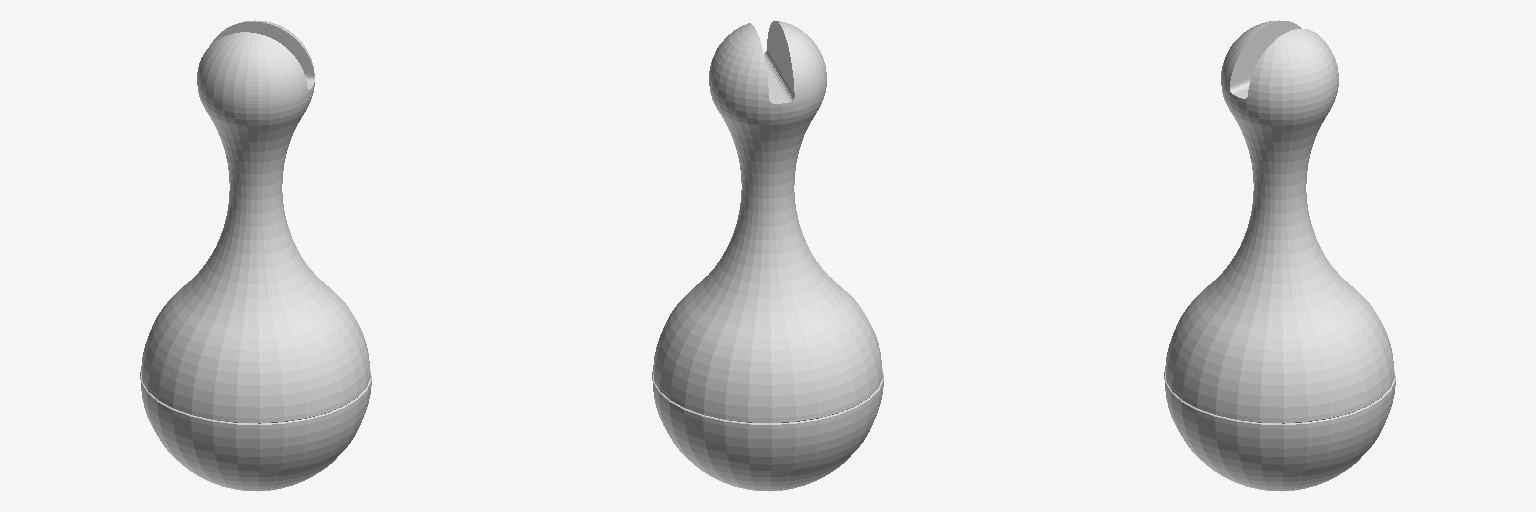
URDF robot description (bishop_w):
<?xml version="1.0"?>
<robot name="bishop_w">
  <link name="base_link">
    <visual>
      <origin xyz="0 0 0" rpy="0 0 0"/>
      <geometry>
        <mesh filename="./meshes/Bishops.stl" scale="0.003 0.003 0.003"/>
      </geometry>
      <material name="pawn_material">
        <color rgba="0.9 0.9 0.9 1.0"/>
      </material>
    </visual>
    <collision>
      <origin xyz="0 0 0.025" rpy="0 0 0"/>
      <geometry>
        <cylinder radius="0.012" length="0.05"/>
      </geometry>
    </collision>
    <inertial>
      <origin xyz="0 0 0.025" rpy="0 0 0"/>
      <mass value="0.04"/> <!-- 40 grams, or adjust -->
      <inertia
        ixx="0.00005" ixy="0.0" ixz="0.0"
        iyy="0.00005" iyz="0.0"
        izz="0.00001"/>
    </inertial>
  </link>
</robot>

--- Render facts (derived) ---
Views: 3 orthographic renders of the robot side by side, from view 1: azimuth 30°, elevation 25°; view 2: azimuth 150°, elevation 25°; view 3: azimuth 270°, elevation 25°.
Model bishop_w with 1 links and 0 joints (none), rooted at base_link, posed all joints at 0.
Links seen in each view (by area): view 1: base_link; view 2: base_link; view 3: base_link.
Boxes of the visible links, x1,y1,x2,y2 form: base_link: (140, 20, 371, 491); base_link: (652, 21, 883, 491); base_link: (1164, 20, 1395, 491).
Bounding box of the posed robot: 0.0524 × 0.0523 × 0.113 m (x, y, z).
1 mesh visuals loaded from 1 distinct referenced files (1 binary STL).
